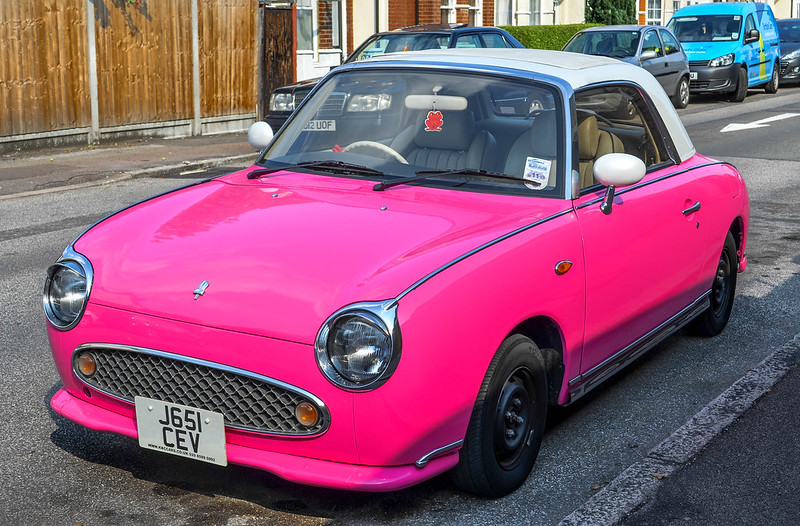plate: (131, 395, 230, 467)
